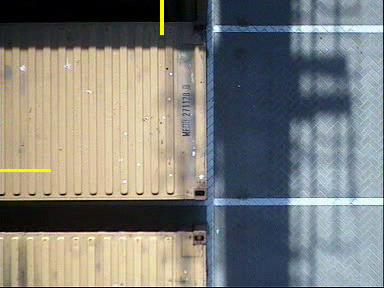groundmarker_2: (16, 1, 88, 119)
